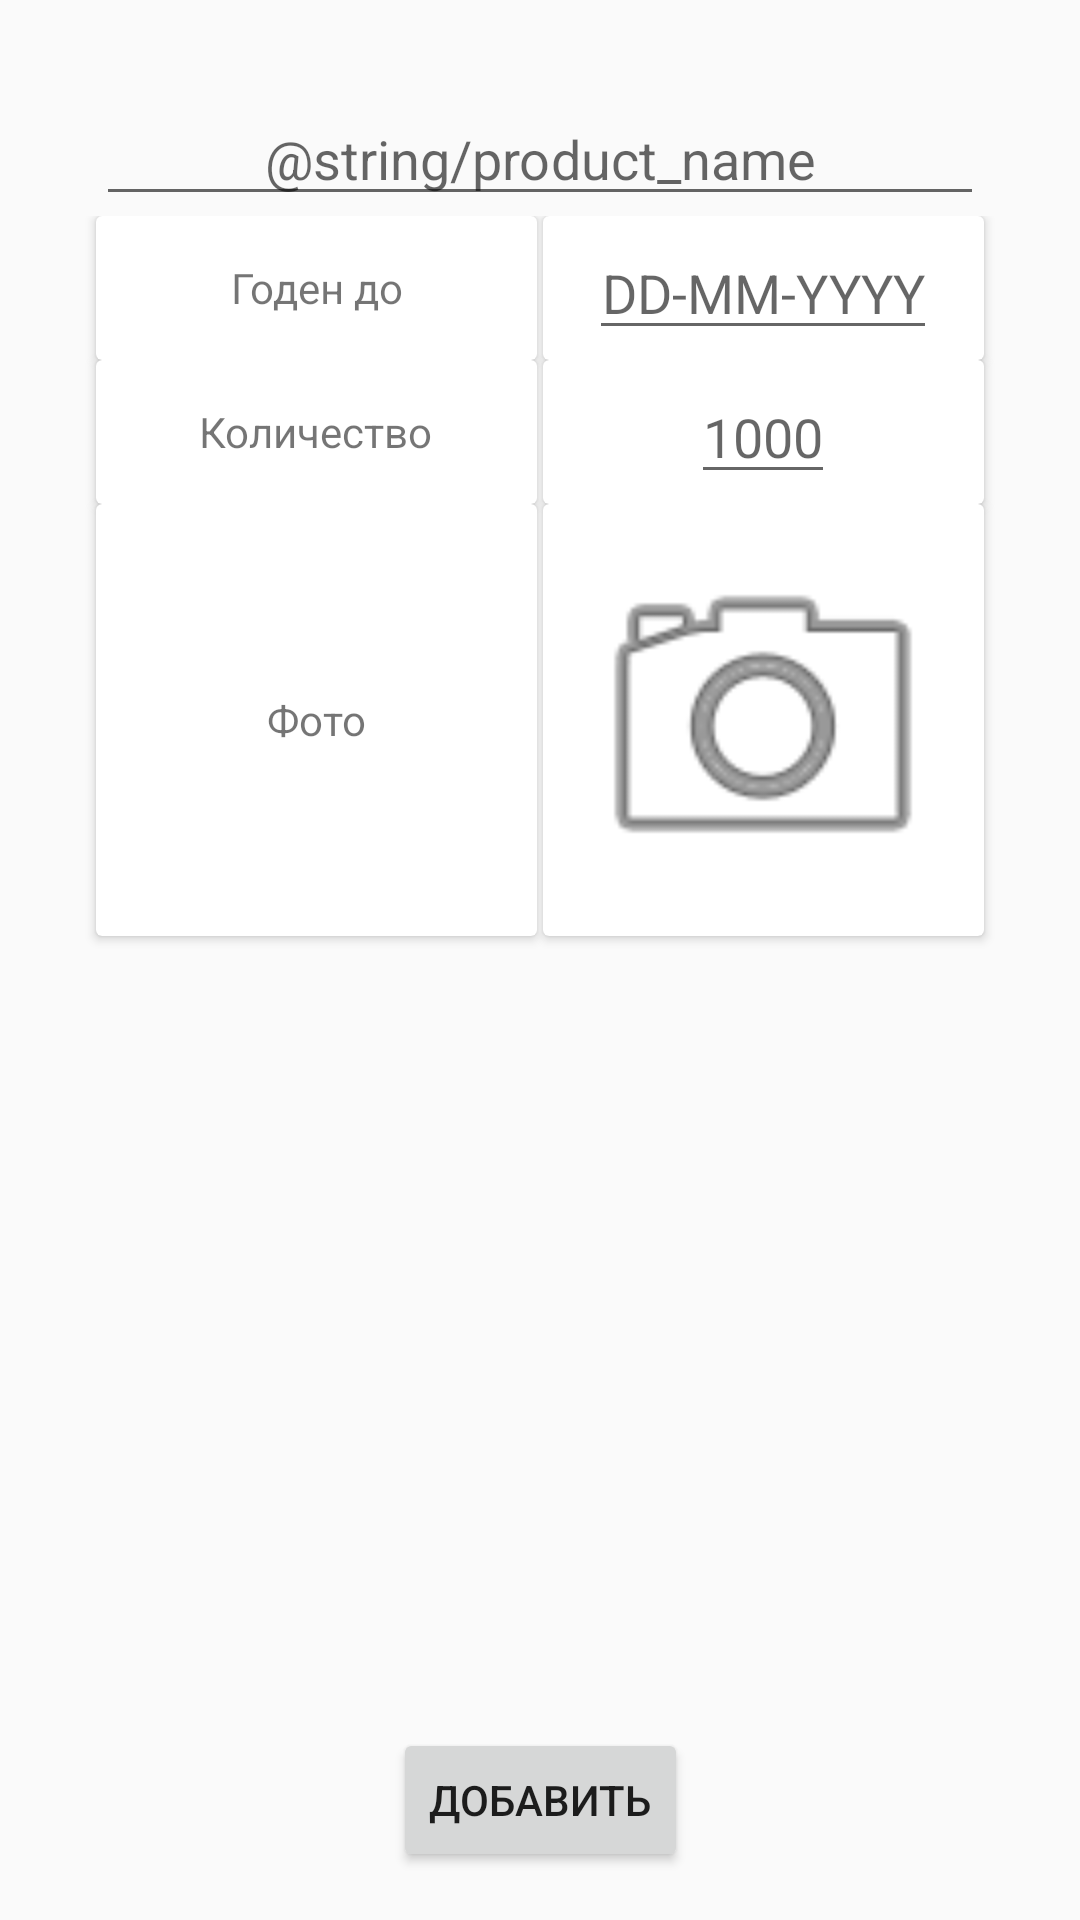

Icon bounding boxes for this 1080 x 1920 phone screenshot, format bbox=(x1, y1, x2, y2):
camera: bbox=(614, 595, 912, 833)
